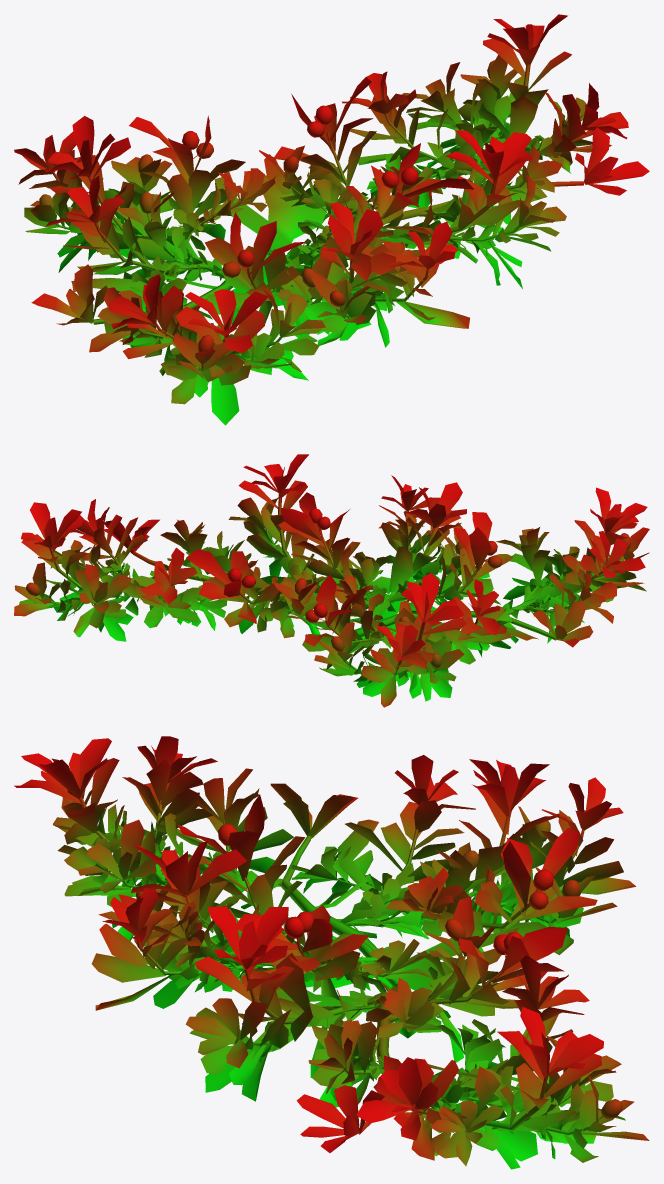
The model's file is Alpine Bearberry_LOD3_Var11_xb0gdazqx.fbx.
The picture shows the model from 3 angles, top to bottom: view 1: azimuth 30°, elevation 25°; view 2: azimuth 150°, elevation 25°; view 3: azimuth 270°, elevation 25°; orthographic projection. The views are drawn at different scales.
Parts seen in each view (by area): view 1: _s2n9_Var11_LOD3; view 2: _s2n9_Var11_LOD3; view 3: _s2n9_Var11_LOD3.
Part boxes in pixels (left/top/right/bottom): _s2n9_Var11_LOD3: left=14, top=14, right=649, bottom=425; _s2n9_Var11_LOD3: left=14, top=454, right=649, bottom=707; _s2n9_Var11_LOD3: left=14, top=736, right=649, bottom=1169.
Bounding box in the file's own units: 51.1 × 13.07 × 38.35.
